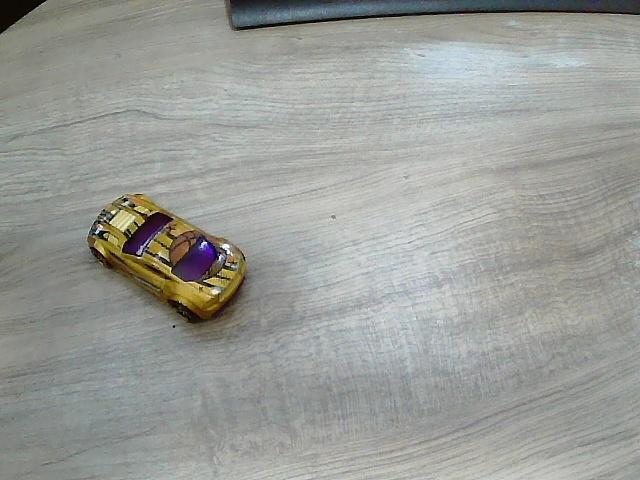Carro: (88, 193, 247, 322)
